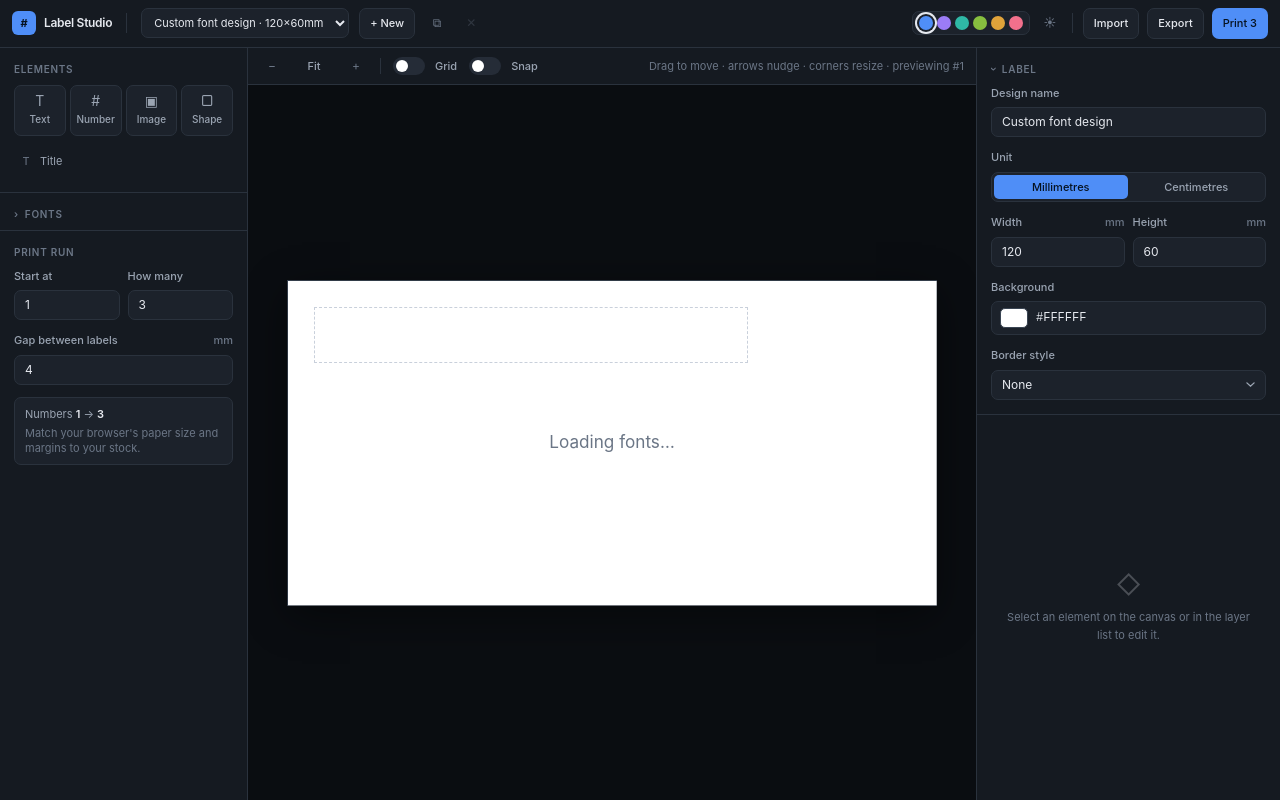
fonts are ready before anything is shown or printed › still prints when fonts never load, rather than hanging
Click the button "Print 3" at (1240, 23), box top-left (1212, 8), bottom-right (1268, 38)
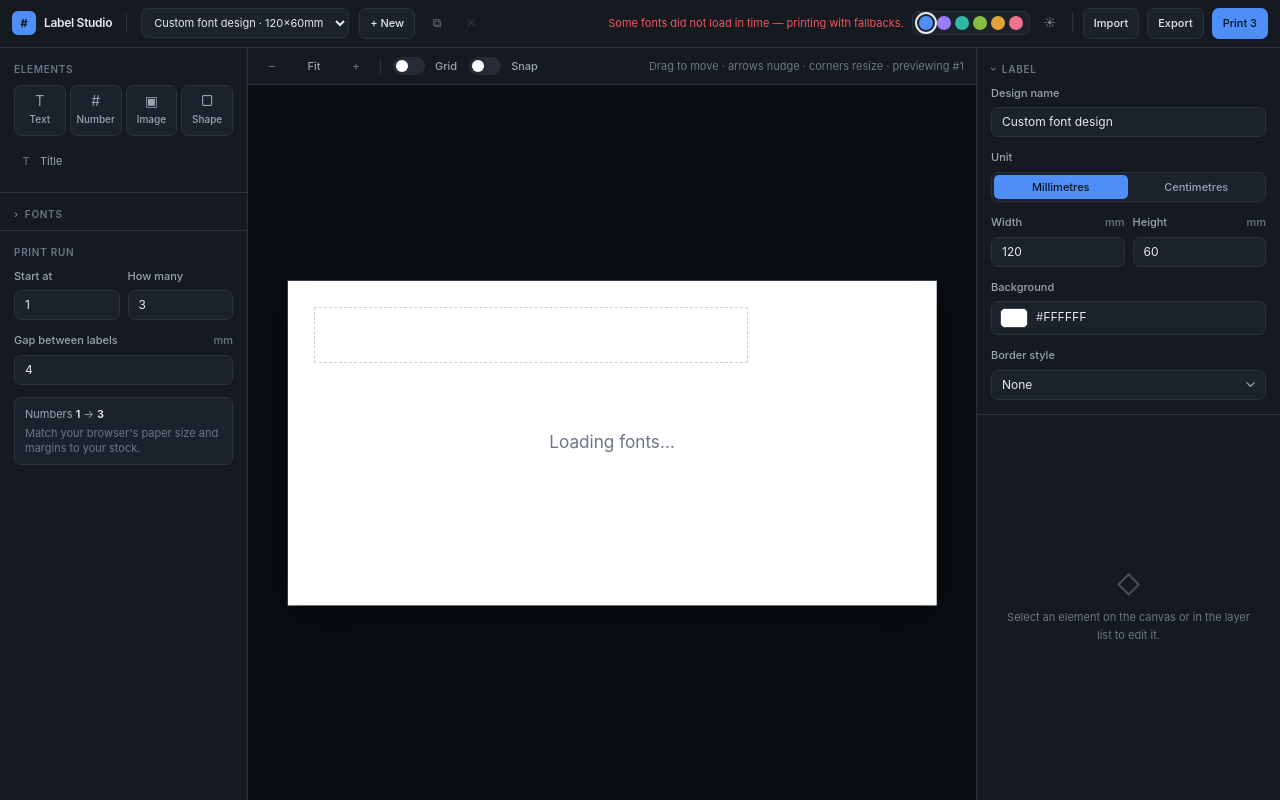
Expected: the text "Some fonts did not load in time — printing with fallbacks." is shown, top-left (608, 15), bottom-right (904, 32)
